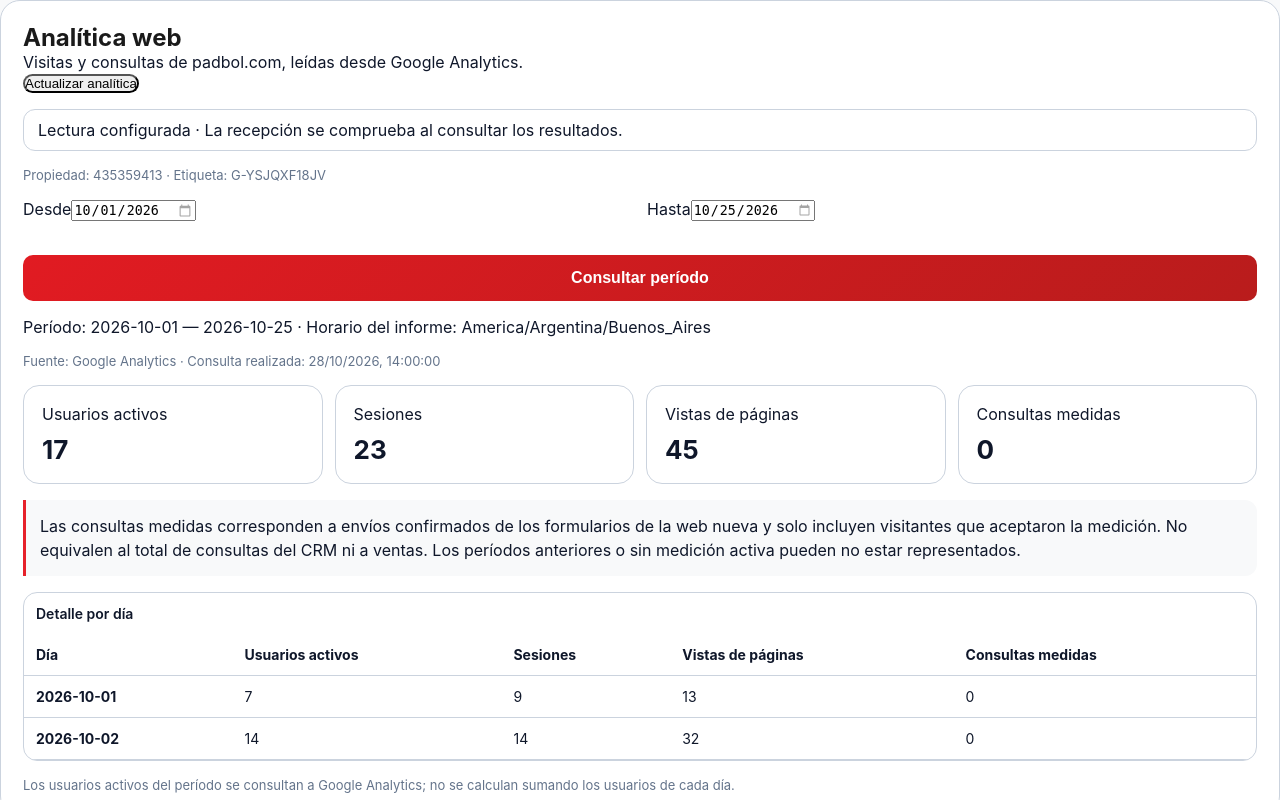
Test case: consultar fechas envía exactamente el rango elegido y elimina resultados anteriores durante la espera
This screenshot has width=1280, height=800.
Check: the text "17" is shown, box [42,434,68,465]
Type "2026-09-01" into the date field labelled "Desde".
click(134, 210); type("2026-09-01")  # box [72,200,196,221]
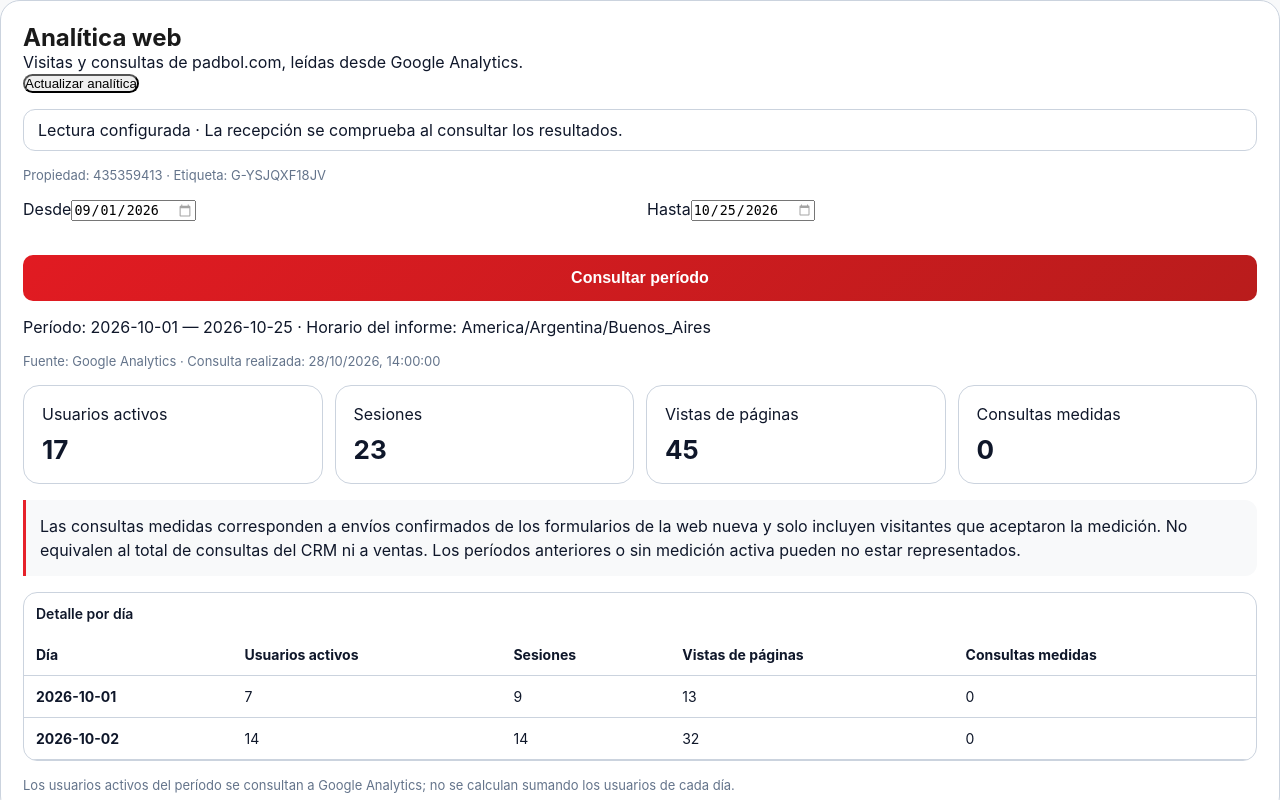
Type "2026-09-10" into the date field labelled "Hasta".
click(753, 210); type("2026-09-10")  # box [691,200,815,221]
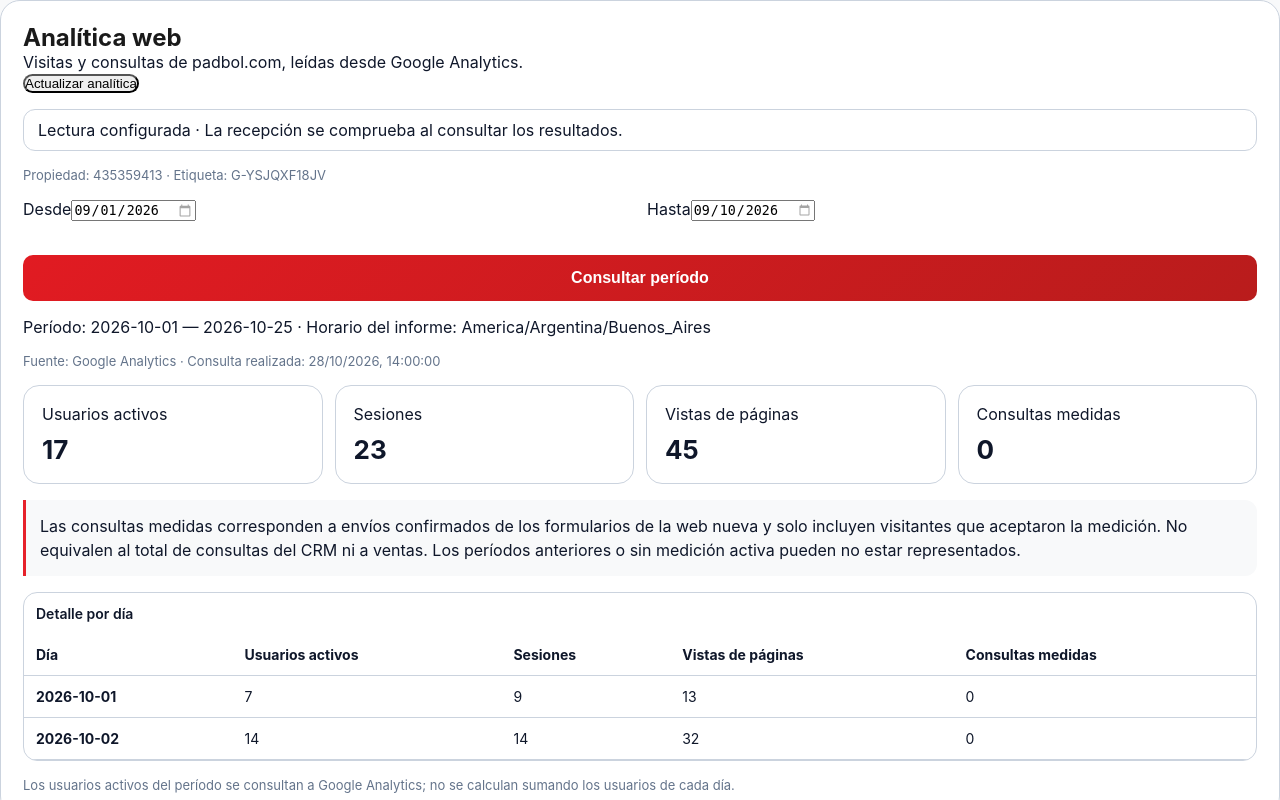
Click the button "Consultar período".
click(640, 278)  # box [23,255,1257,301]
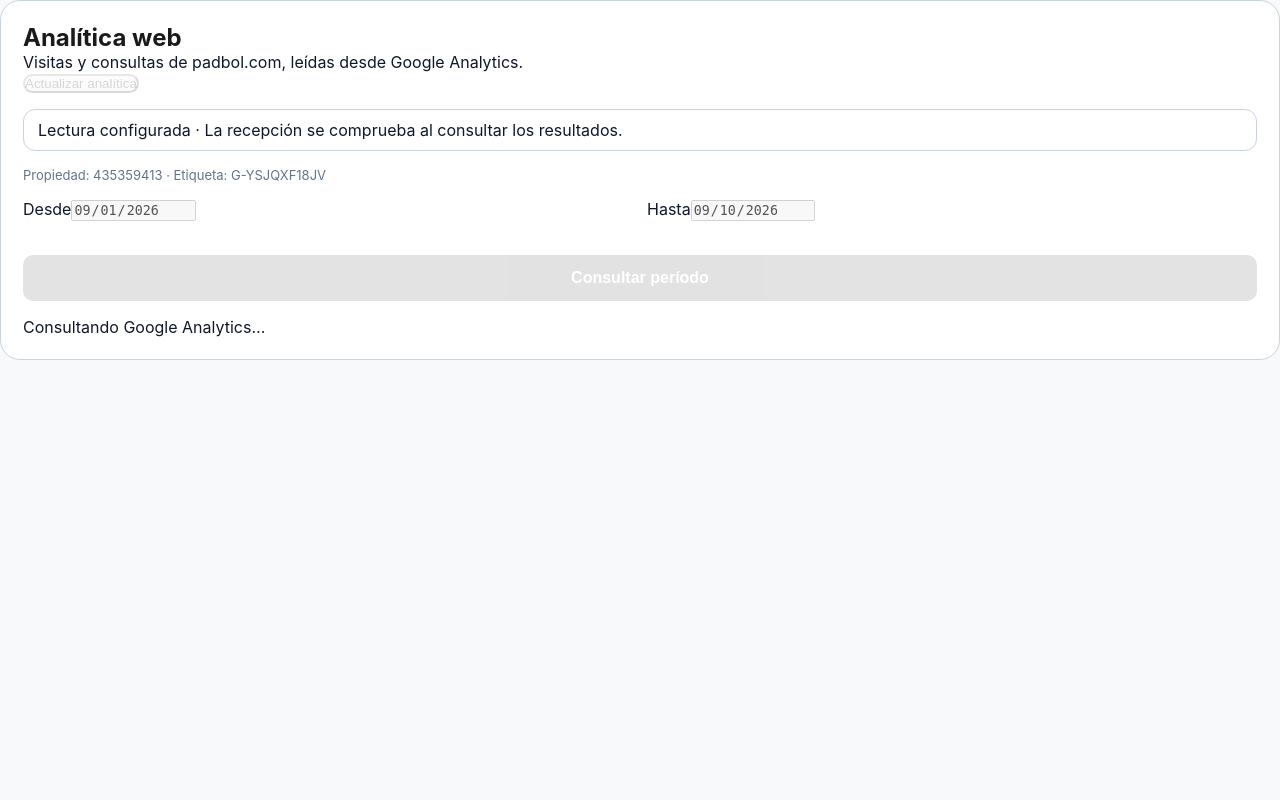
Check: the text "17" is gone
Check: the text "Consultando Google Analytics…" is shown, box [23,317,265,337]
